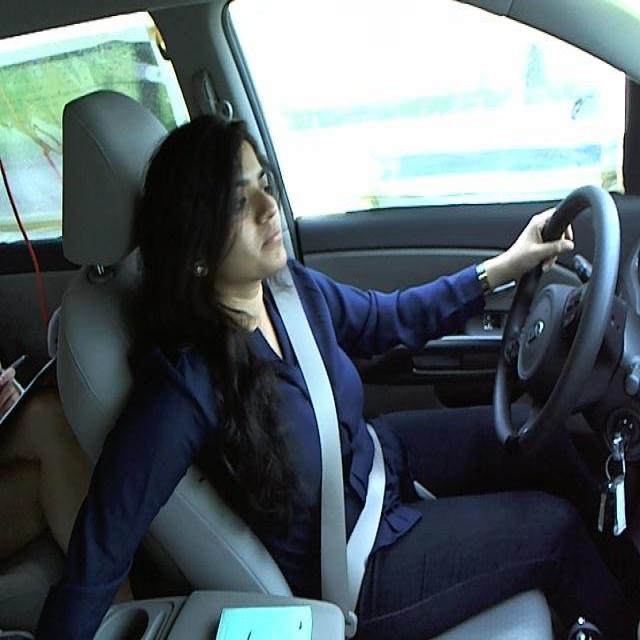seatbelt: (279, 300, 396, 596)
